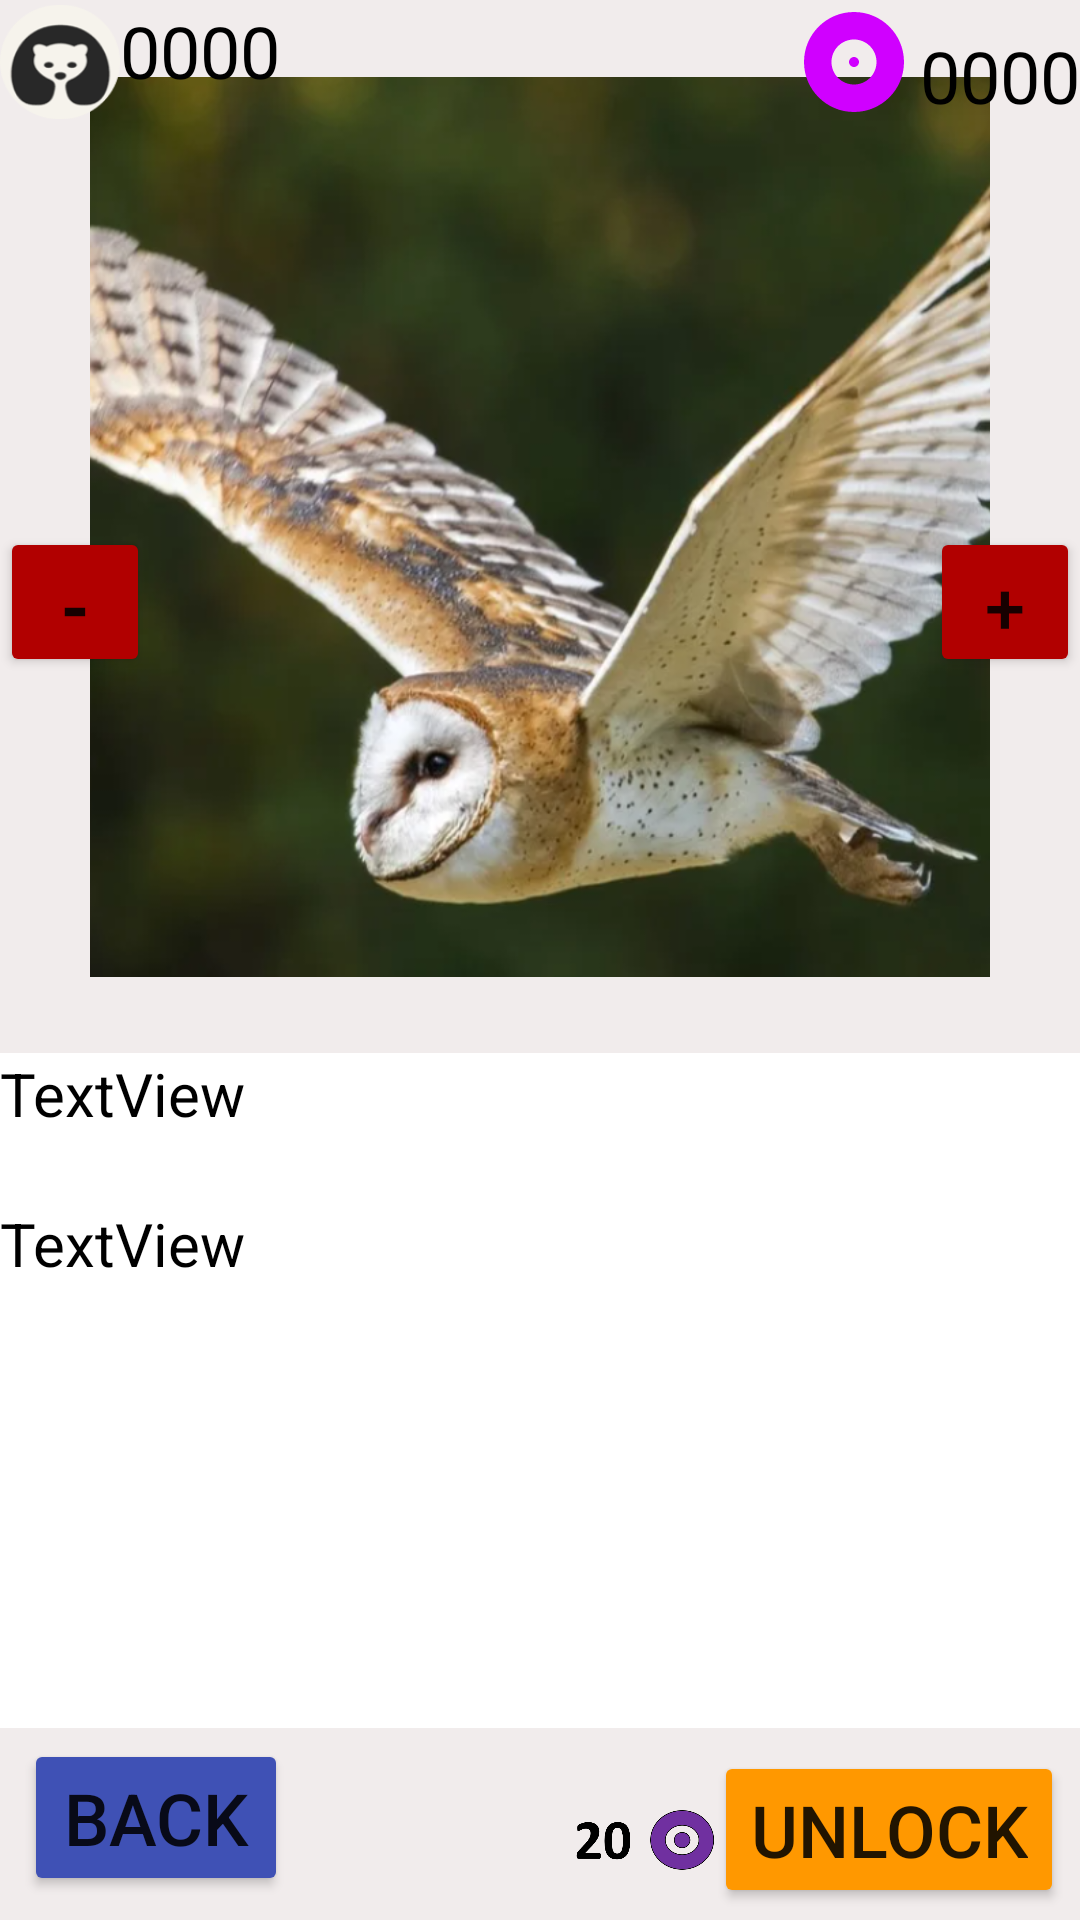

Icon click points for this 1080×1920 phone screenshot, format (x=x, y=y):
panda: (x=60, y=65)
